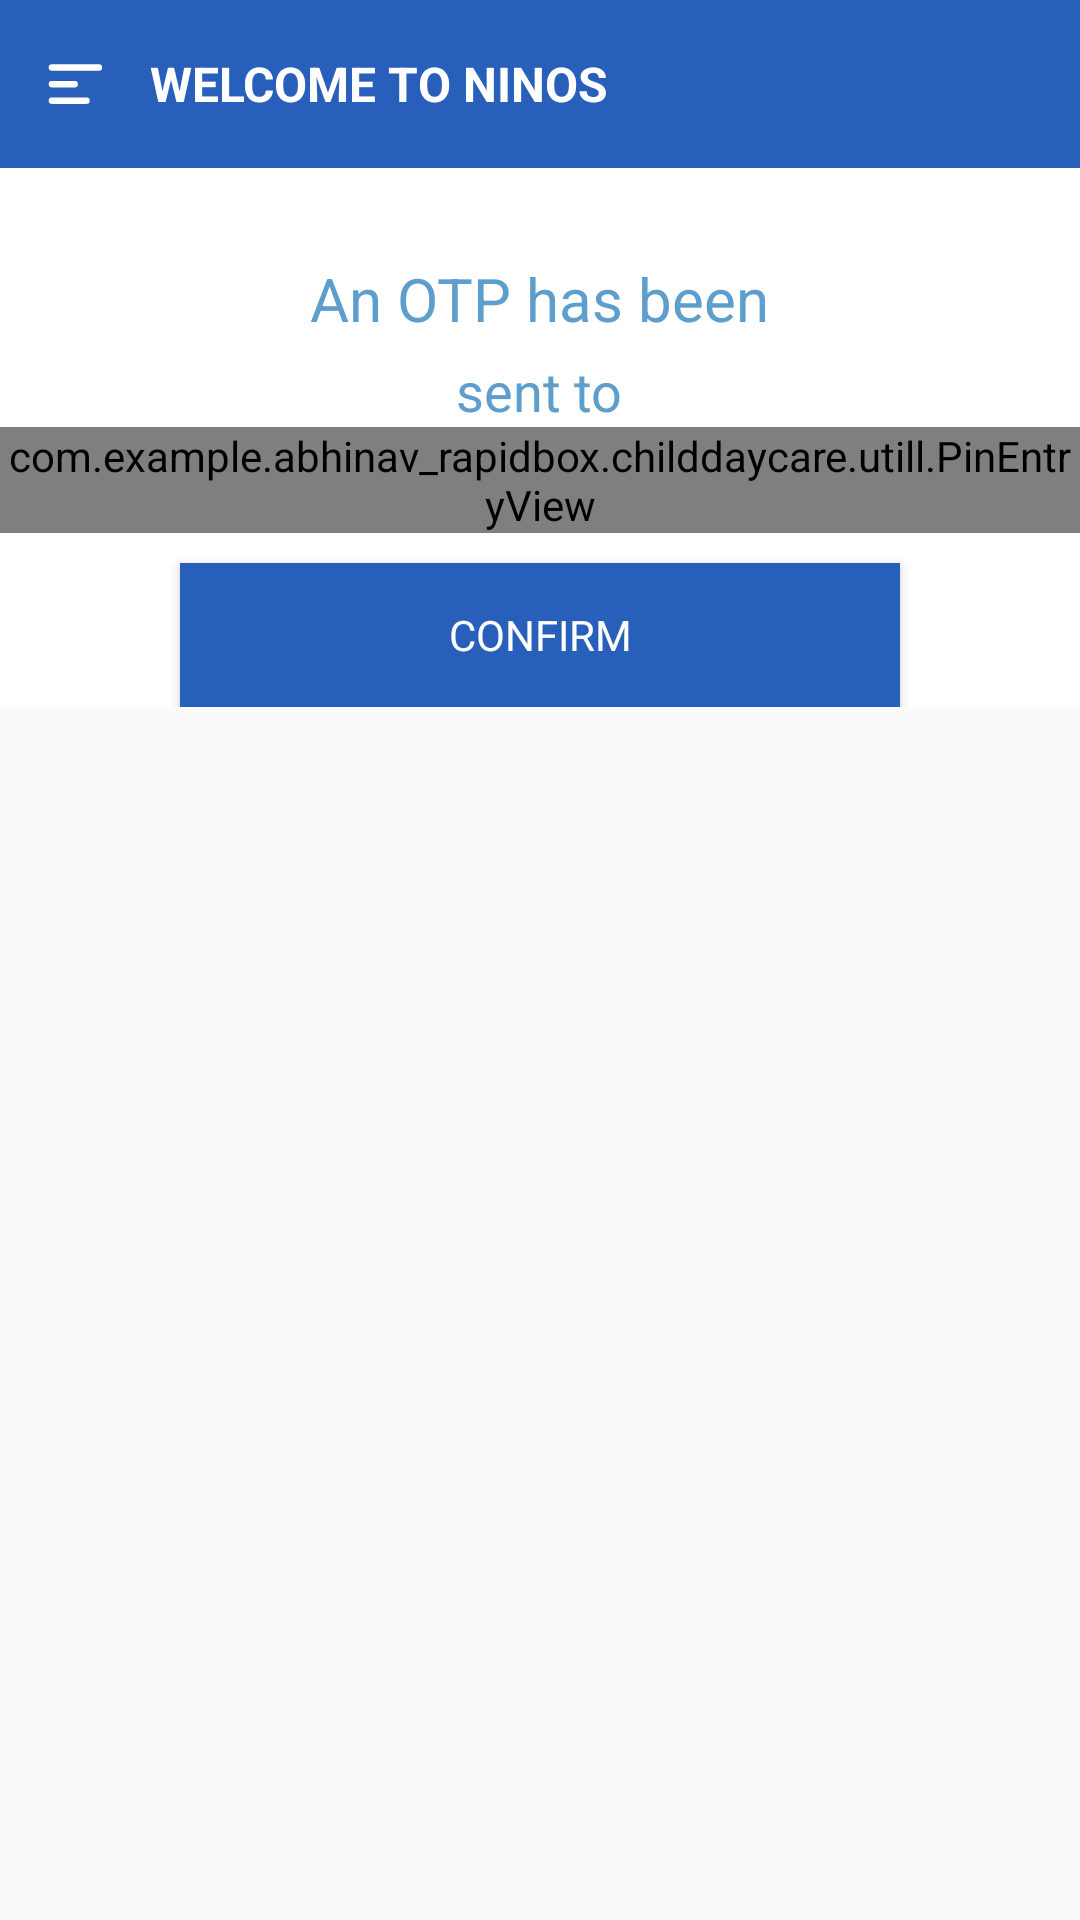

Locate icon controls on the screen. Image size 1080w x 1920h, boxes as (x1, y1, x2, y2).
menu: (48, 64, 102, 104)
